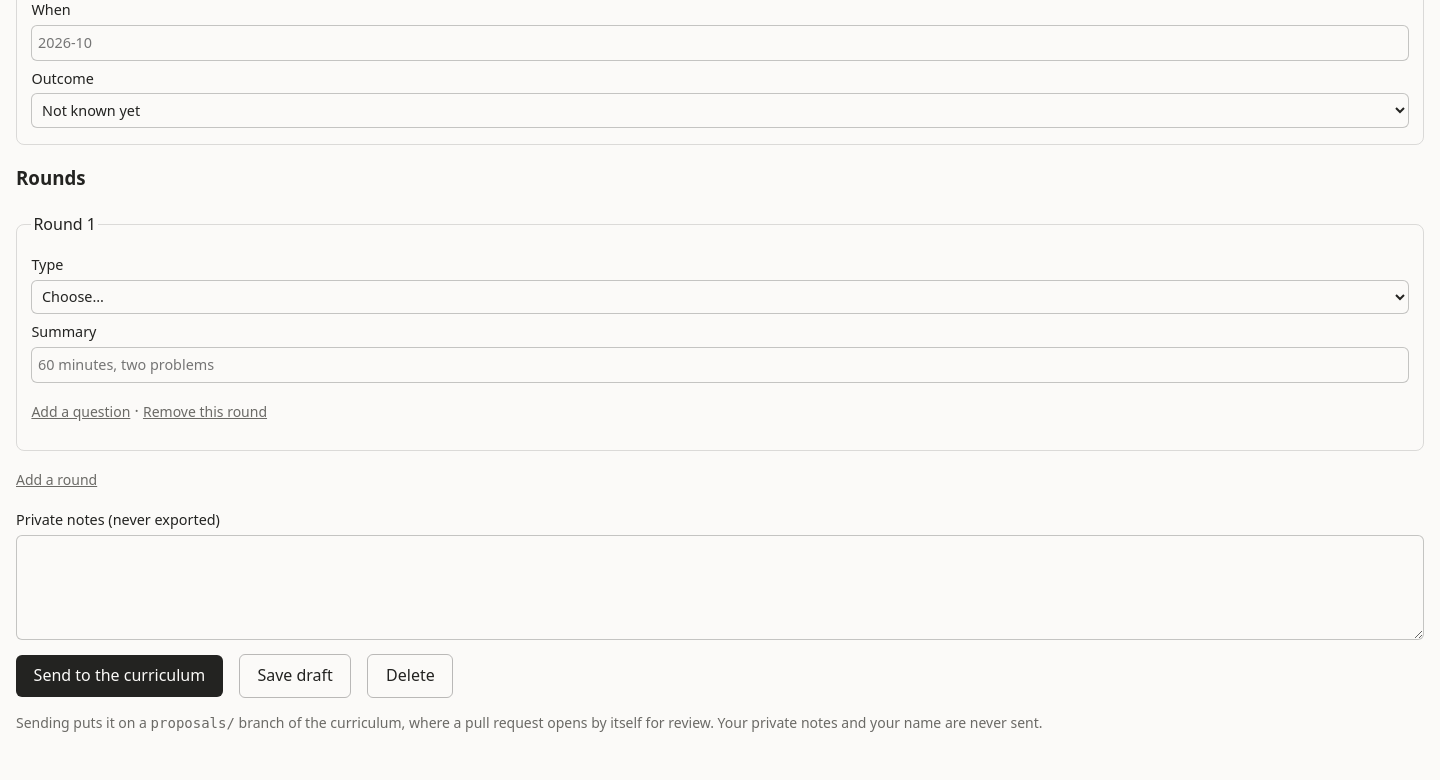
Test: evidence › offers the file when sending is not set up
(page scrolled)
Click the button "Send to the curriculum": (119, 676) [16,655,223,697]
(page scrolled)
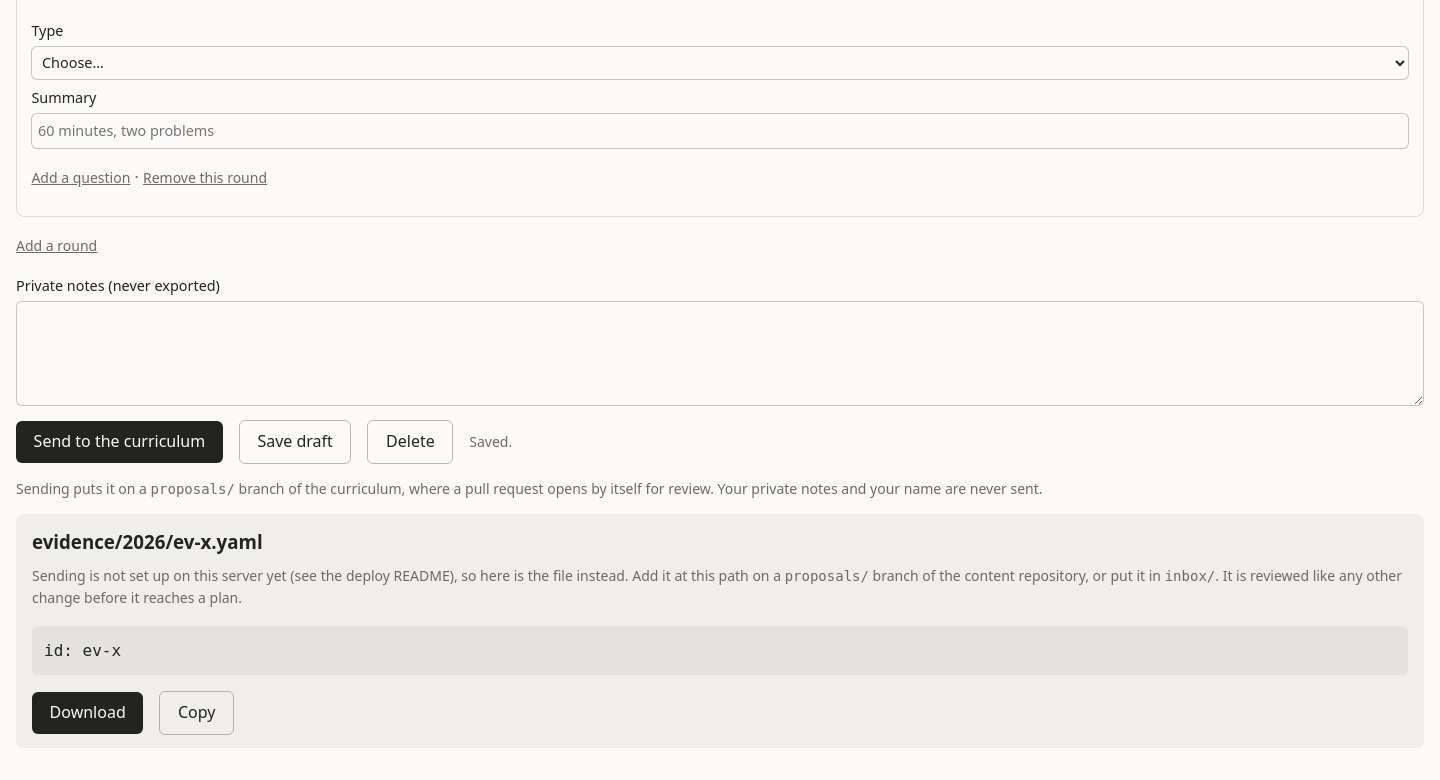
Check: the element named "Evidence file" shows "Sending is not set up on this server yet", box [32,566,632,585]
Check: the element named "Evidence file" shows "id: ev-x", box [44,641,121,660]
